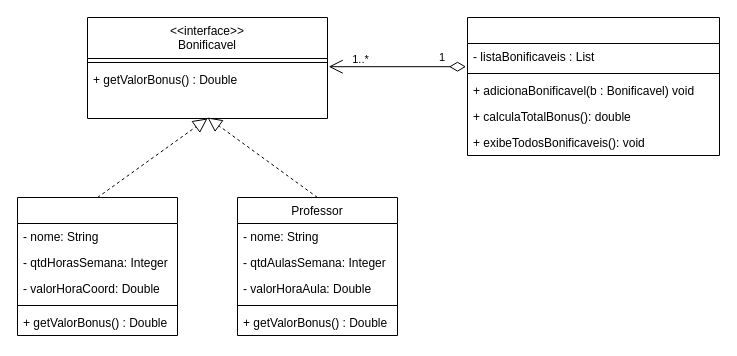
Some shapes in this 737 by 356 pixel diagram are drawn without their labels. The shapes that lost their labels are listed below. From the top down, each one's box as (x1, y1, x2, y2) in pixels, then its label:
(466, 16, 720, 156): ControleBonus
(16, 196, 178, 336): Coordenador
